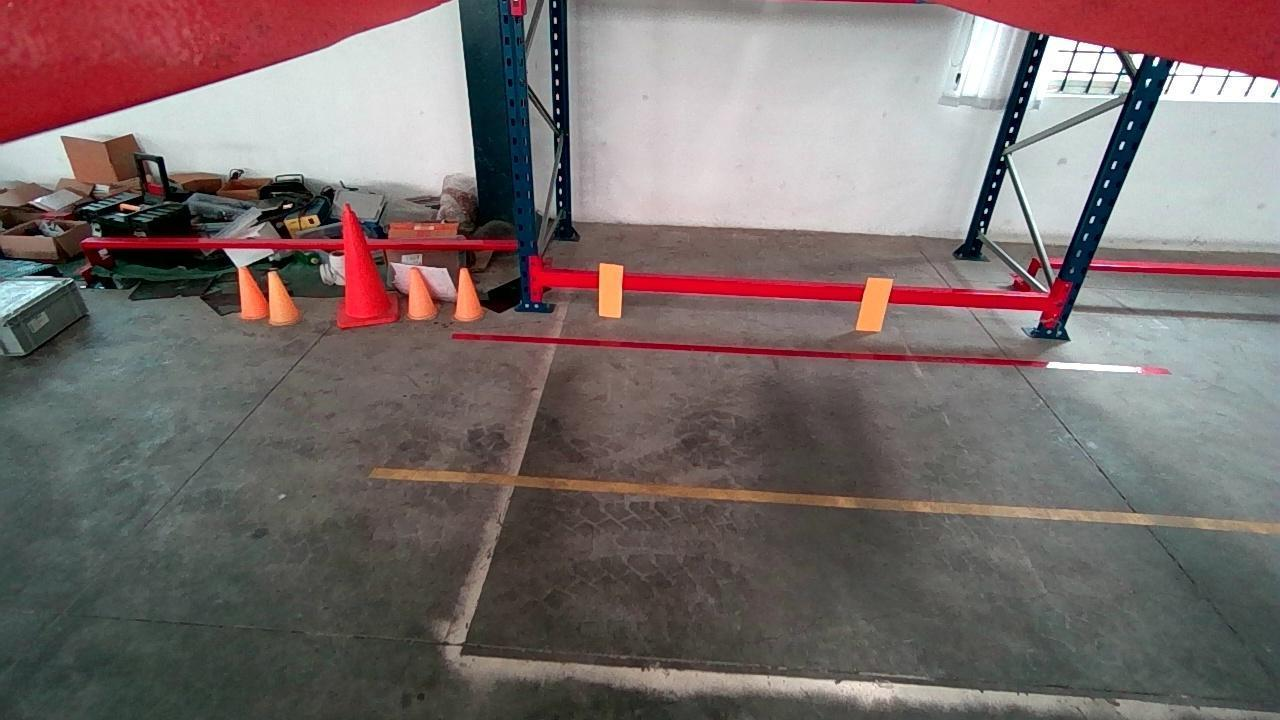h_rack: (541, 264, 1055, 312)
orange_strip: (858, 273, 894, 334), (599, 264, 623, 318)
red_line: (452, 330, 1175, 377)
yellow_line: (366, 468, 1280, 535)
